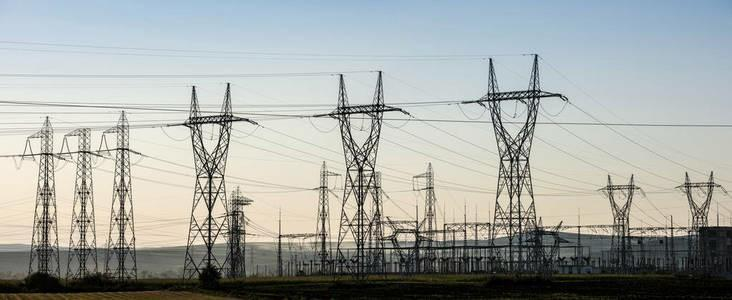power_tower: (313, 63, 397, 279), (476, 54, 558, 271), (175, 81, 258, 276), (667, 164, 732, 284), (15, 115, 59, 279), (102, 103, 140, 274), (591, 173, 651, 271), (64, 122, 101, 279)
